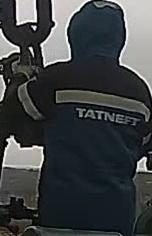gloves: (9, 63, 42, 83)
vest: (38, 65, 150, 235)
